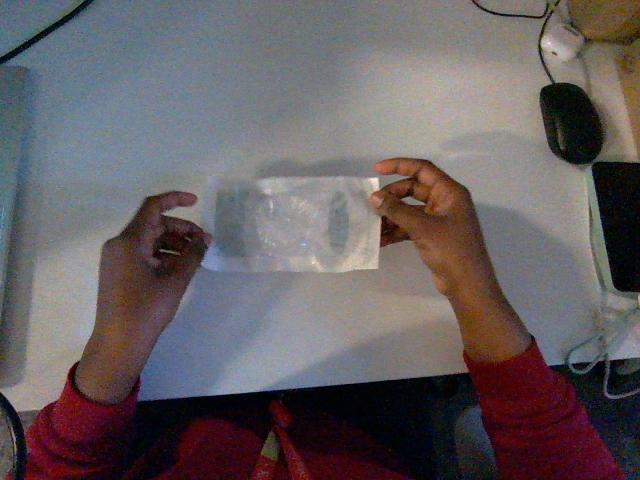gallipot: (202, 177, 379, 271)
